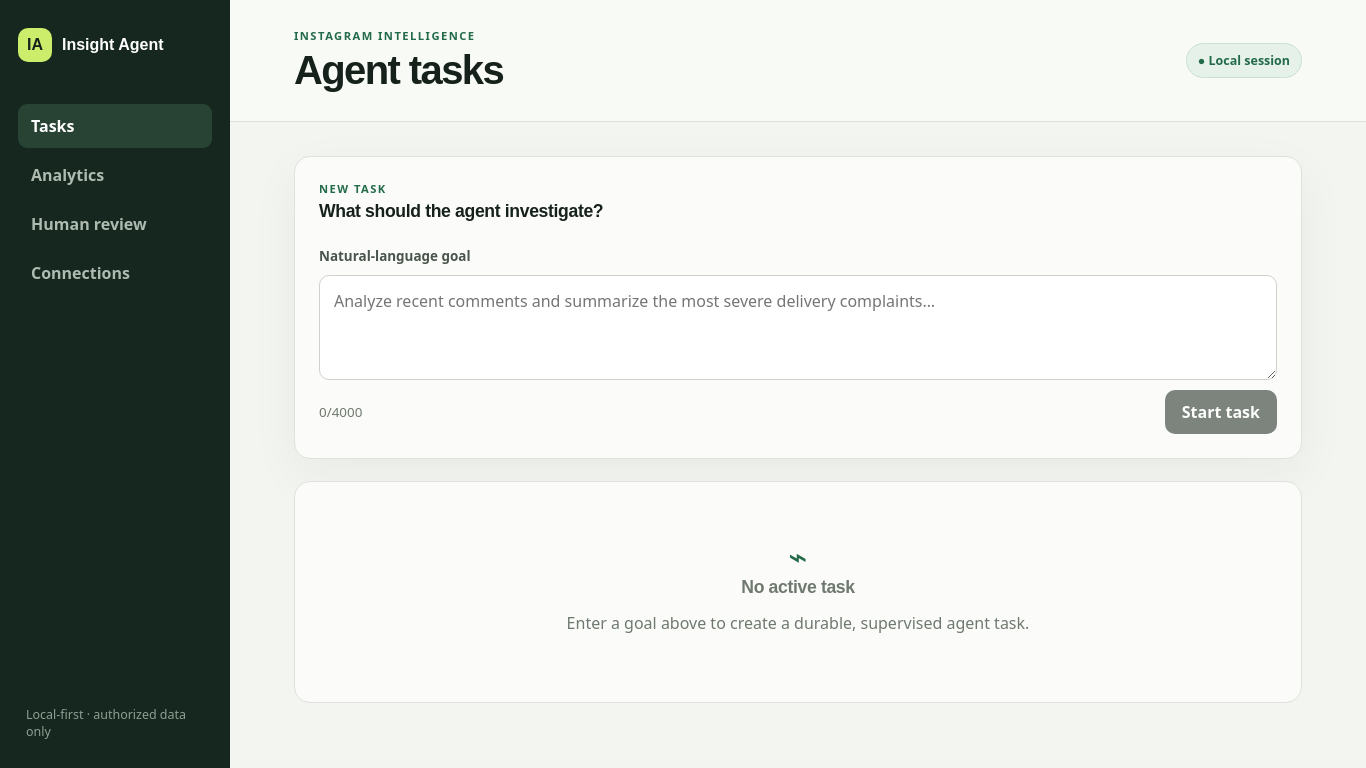
dashboard › surfaces server failures
This screenshot has width=1366, height=768.
Type "Run analysis" into the text box labelled "Natural-language goal".
click(798, 327); type("Run analysis")  # box top-left (319, 275), bottom-right (1277, 380)
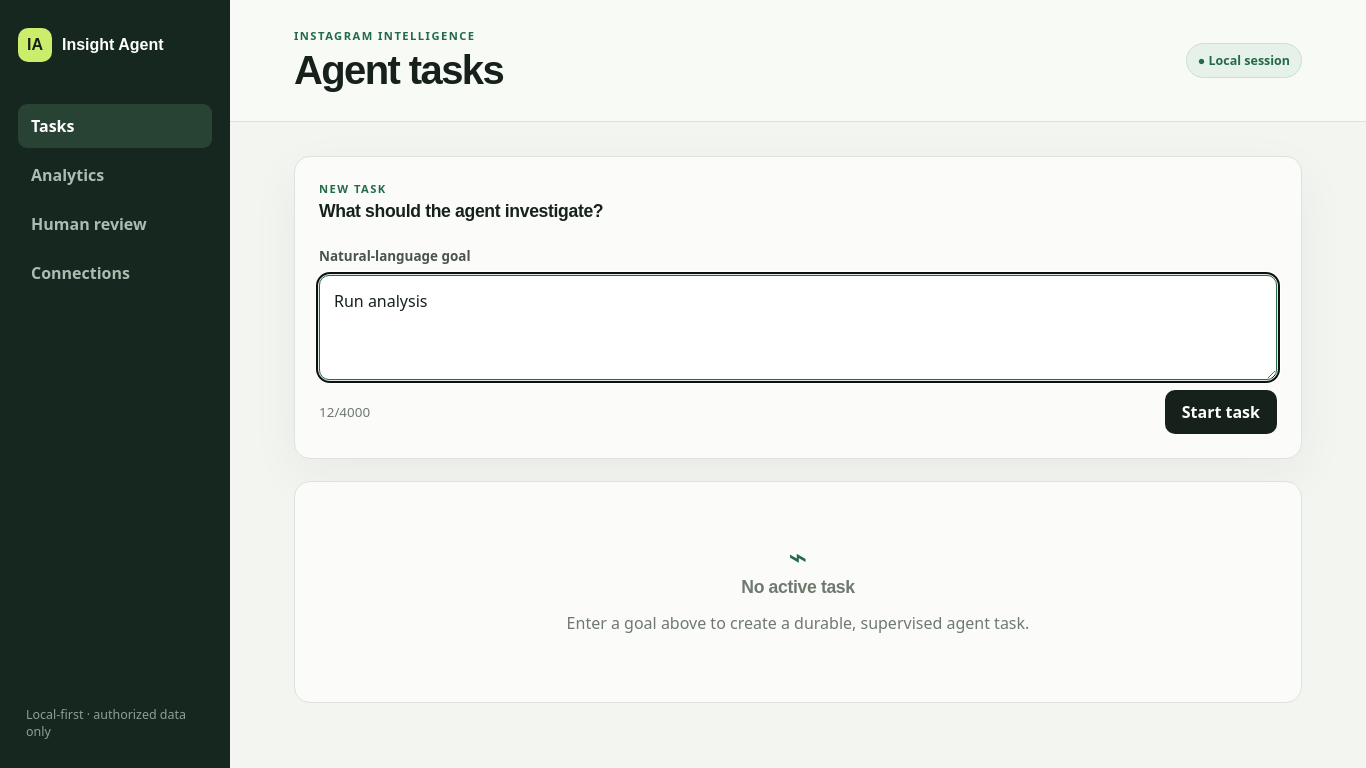
Click the button "Start task".
click(1221, 412)  # box top-left (1165, 390), bottom-right (1277, 434)
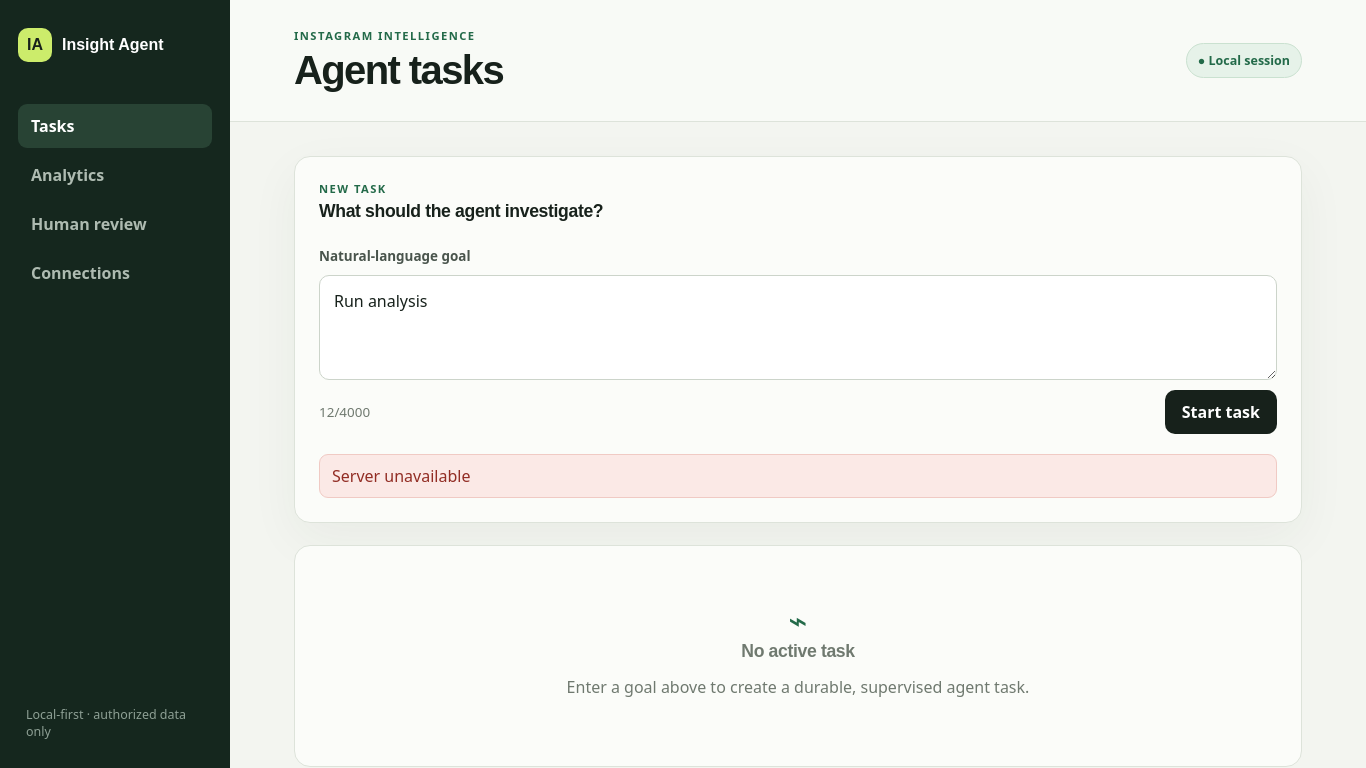
expect the message reads "Server unavailable": met, box top-left (332, 465), bottom-right (470, 487)
